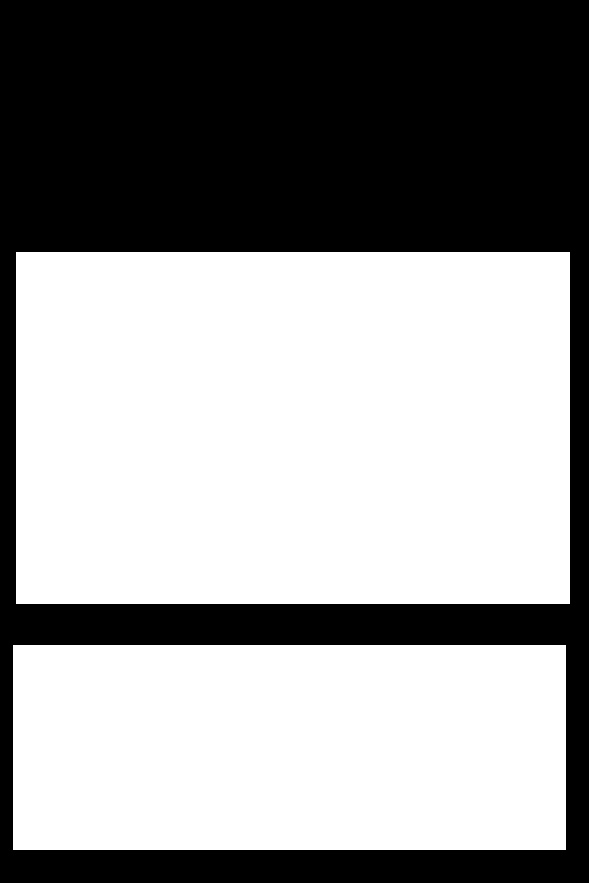table: (16, 252, 569, 603), (13, 645, 565, 849)
